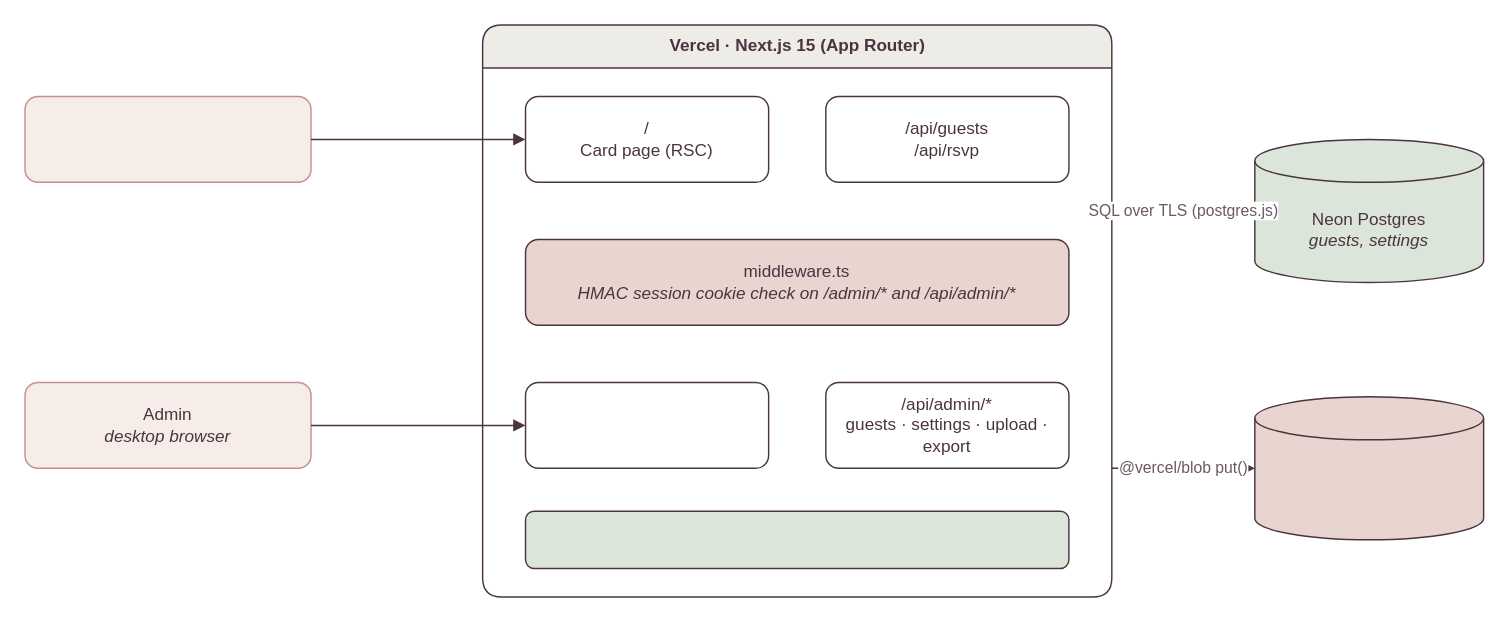
Some shapes in this 1509 by 622 pixel diagram are drawn without their labels. The shapes that lost their labels are listed below. From the top down, each one's centre as x and y in pixels, then its label:
At (x=167, y=138): "Guest phone browser, via WhatsApp link".
At (x=646, y=424): "/admin Tetamu · Kad (client components)".
At (x=1368, y=467): "Vercel Blob music/*.mp3, background/*".
At (x=796, y=539): "src/server/* · services + repositories (Drizzle) · storage adapter".
